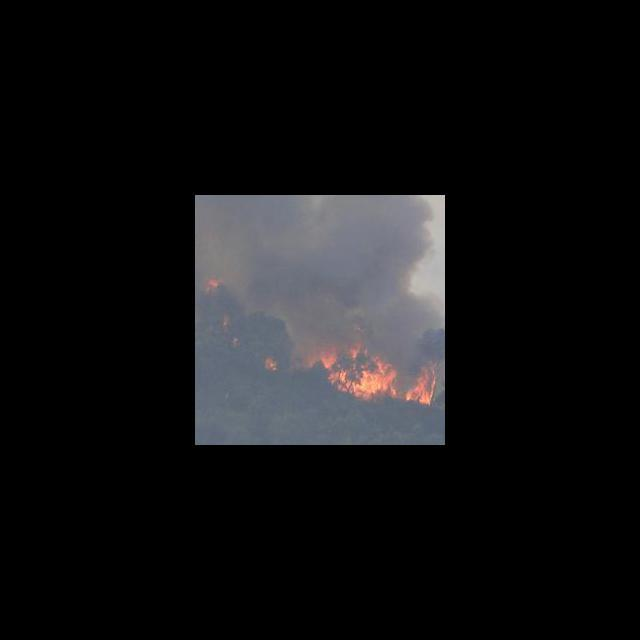Fire: (324, 337, 395, 398), (408, 363, 433, 405), (203, 274, 220, 290), (263, 356, 276, 372)
Smoke: (228, 198, 432, 316)
